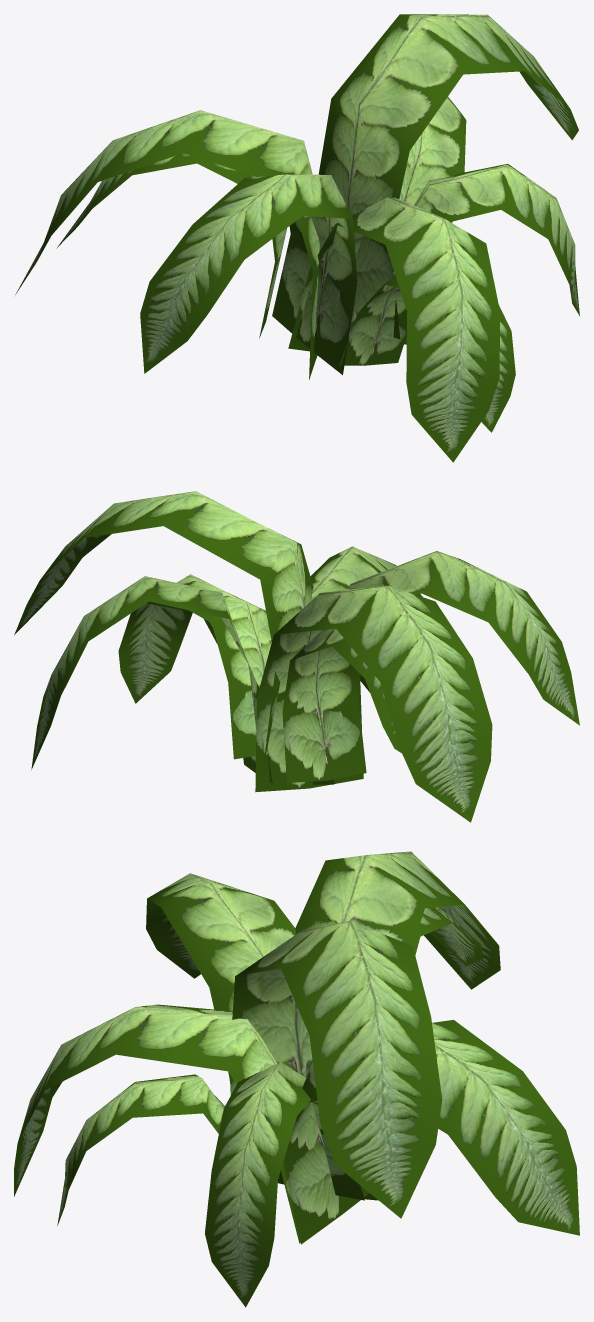
Rendered from fern.glb.
3 renders of one model, top to bottom at view 1: azimuth 30°, elevation 25°; view 2: azimuth 150°, elevation 25°; view 3: azimuth 270°, elevation 25°, orthographic. The views are drawn at different scales.
Parts seen in each view (by area): view 1: bush fern joined; view 2: bush fern joined; view 3: bush fern joined.
Boxes of the visible parts, x1,y1,x2,y2 form: bush fern joined: [15, 14, 579, 462]; bush fern joined: [14, 491, 579, 822]; bush fern joined: [14, 851, 579, 1307].
Bounding box in the file's own units: 1.32 × 0.7498 × 1.1.
1 material, 1 textured.
